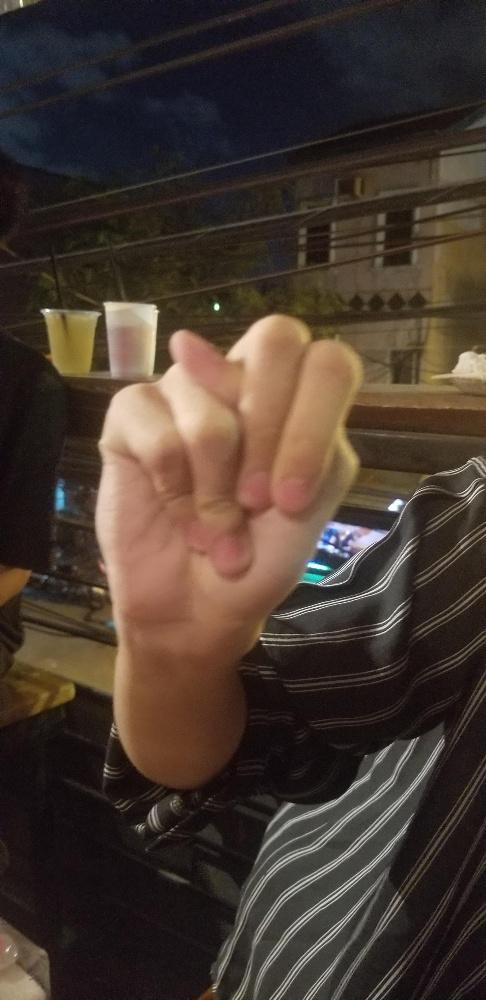n: (92, 313, 363, 648)
